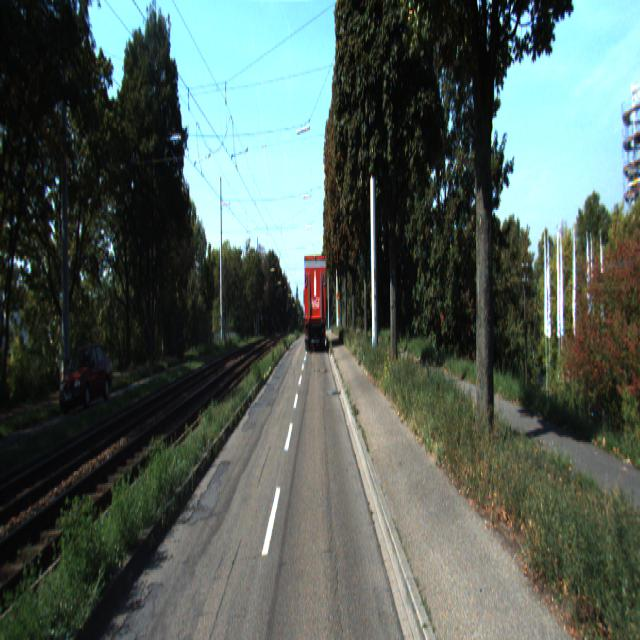Car: (58, 342, 116, 416), (302, 250, 327, 351)
